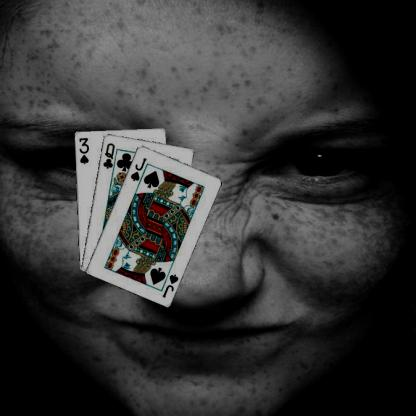3S: (76, 135, 90, 165)
JS: (127, 155, 148, 182), (159, 272, 180, 298)
QC: (100, 140, 115, 170)
